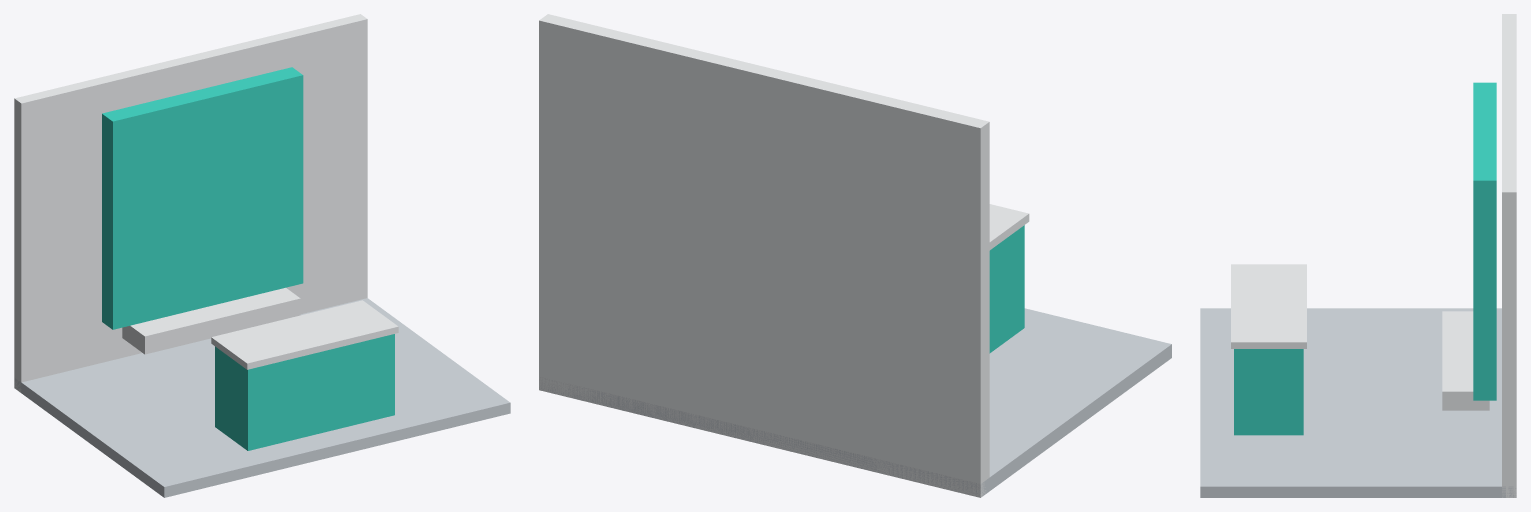
3 renders of one model, left to right at view 1: azimuth 30°, elevation 25°; view 2: azimuth 150°, elevation 25°; view 3: azimuth 270°, elevation 25°, orthographic. The views are drawn at different scales.
Visible parts, largest first — view 1: Exhibition Booth Concept; view 2: Exhibition Booth Concept; view 3: Exhibition Booth Concept.
Part boxes in pixels (x1,y1,x2,y2): Exhibition Booth Concept: (14,14,510,497); Exhibition Booth Concept: (539,14,1171,497); Exhibition Booth Concept: (1200,14,1516,497).
Bounding box in the file's own units: 4 × 3.2 × 3.
